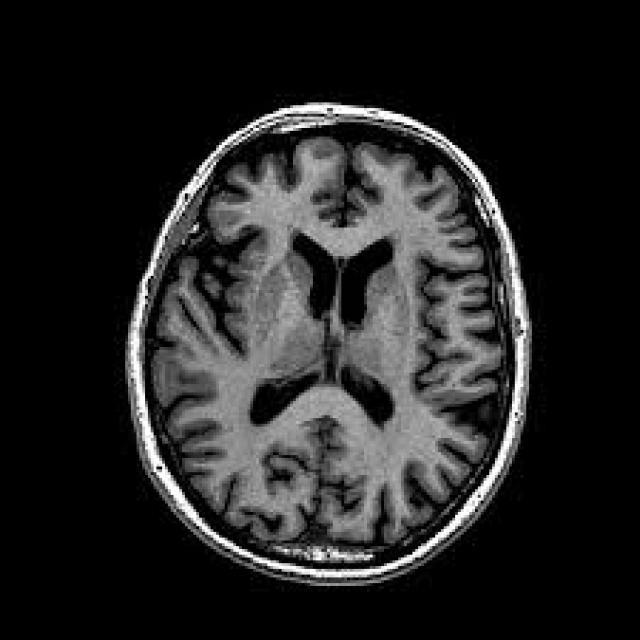notumor: (125, 105, 535, 592)
